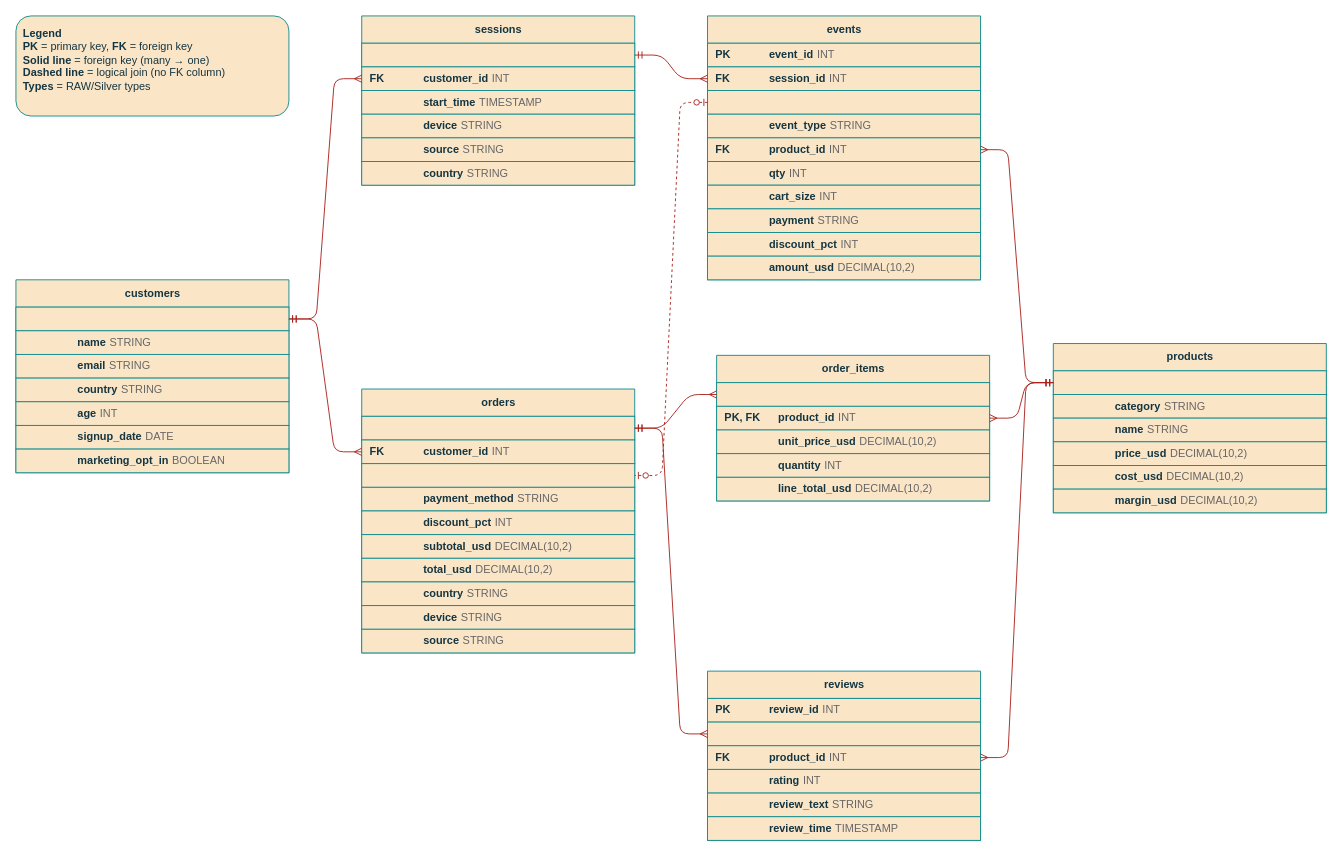
This 1342x856 diagram has some shape labels left out. Each missing label, with the centre of its shape:
"event_ts TIMESTAMP" goes at pixel 844 102.
"FK order_id INT" goes at pixel 844 733.
"order_time TIMESTAMP" goes at pixel 498 475.
"PK customer_id INT" goes at pixel 152 318.
"PK order_id INT" goes at pixel 498 427.
"PK product_id INT" goes at pixel 1189 382.
"PK session_id INT" goes at pixel 498 54.
"PK, FK order_id INT" goes at pixel 853 394.
